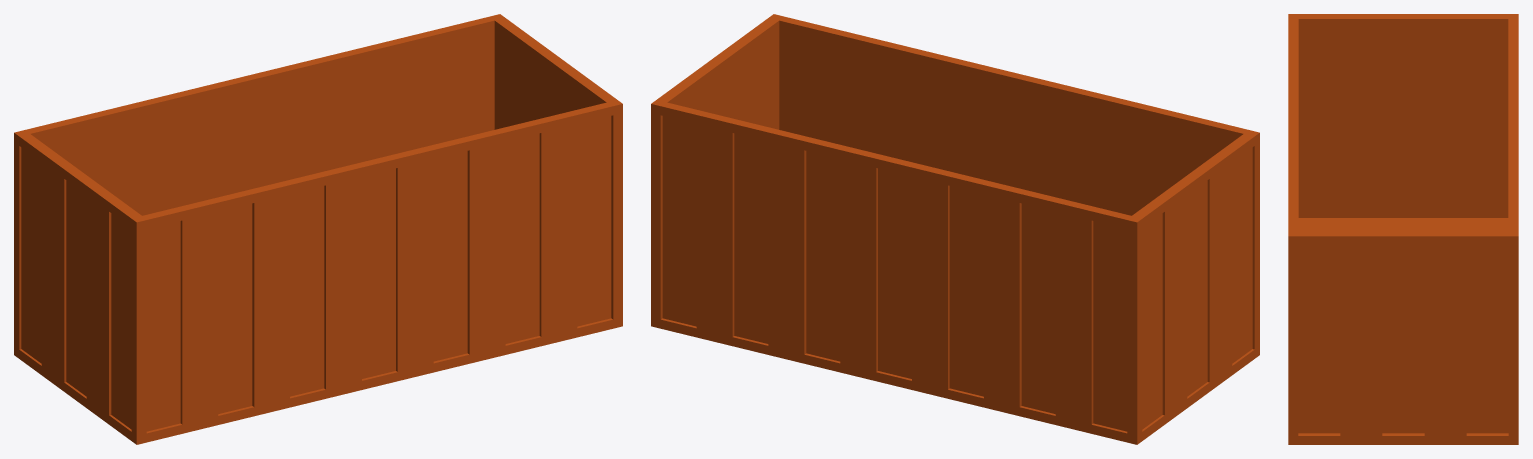
The picture shows the model from 3 angles, left to right: view 1: azimuth 30°, elevation 25°; view 2: azimuth 150°, elevation 25°; view 3: azimuth 270°, elevation 25°; orthographic projection. The views are drawn at different scales.
Parts seen in each view (by area): view 1: D-5; view 2: D-5; view 3: D-5.
Boxes of the visible parts, x1,y1,x2,y2 form: D-5: (14,14,622,444); D-5: (651,14,1259,444); D-5: (1288,14,1518,444).
Bounding box in the file's own units: 2124 × 929 × 929.
